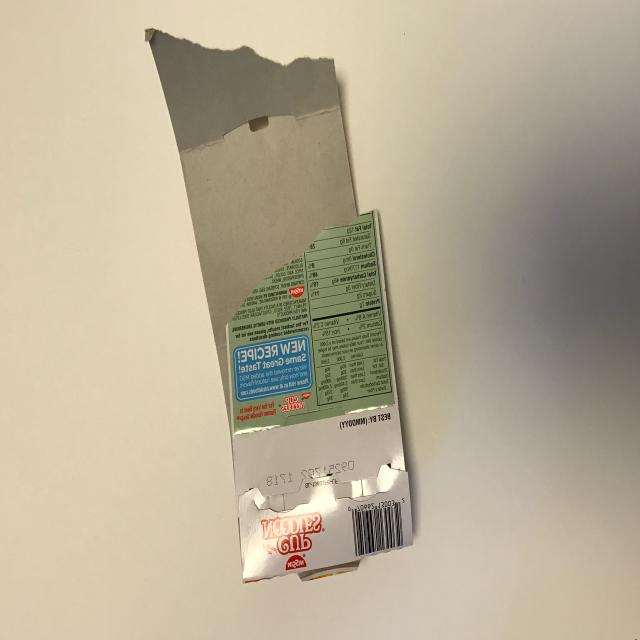paper: (134, 14, 428, 600)
